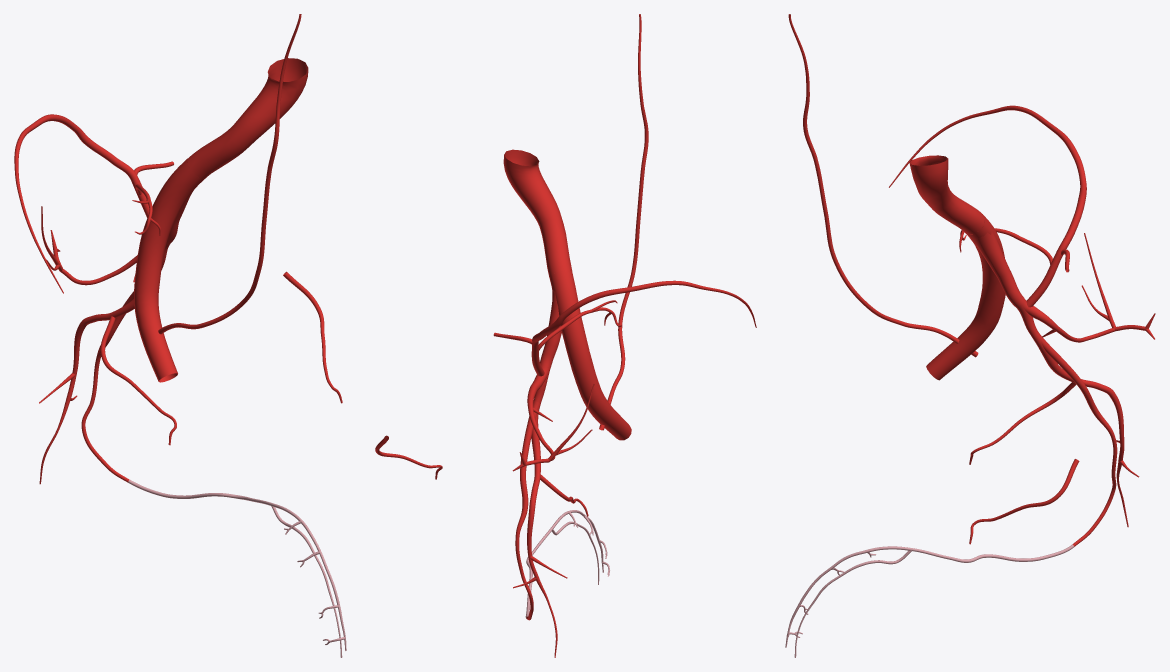
Rendered from circulatorio-common-iliac-artery-r.glb.
The picture shows the model from 3 angles, left to right: view 1: azimuth 30°, elevation 25°; view 2: azimuth 150°, elevation 25°; view 3: azimuth 270°, elevation 25°; orthographic projection. The views are drawn at different scales.
Visible parts, largest first — view 1: External iliac artery.r, Common iliac artery.r, Inferior epigastric artery.r, Iliacus branch of iliolumbar artery.r, Dorsal artery of penis.r, Inferior gluteal artery.r, Internal pudendal artery.r, Superior gluteal artery.r, Obturator artery.r, Obturator artery.l; view 2: External iliac artery.r, Common iliac artery.r, Inferior epigastric artery.r, Inferior gluteal artery.r, Iliacus branch of iliolumbar artery.r, Internal pudendal artery.r, Superior gluteal artery.r, Dorsal artery of penis.r, Internal iliac artery.r; view 3: External iliac artery.r, Common iliac artery.r, Inferior epigastric artery.r, Iliacus branch of iliolumbar artery.r, Internal pudendal artery.r, Dorsal artery of penis.r, Internal iliac artery.r, Inferior gluteal artery.r, Superior gluteal artery.r, Obturator artery.l, Obturator artery.r.
Part boxes in pixels (x1=…): External iliac artery.r: x1=134, y1=159, x2=205, y2=382; Common iliac artery.r: x1=187, y1=58, x2=308, y2=178; Inferior epigastric artery.r: x1=158, y1=14, x2=301, y2=334; Iliacus branch of iliolumbar artery.r: x1=14, y1=114, x2=138, y2=293; Dorsal artery of penis.r: x1=128, y1=479, x2=346, y2=650; Inferior gluteal artery.r: x1=39, y1=266, x2=163, y2=484; Internal pudendal artery.r: x1=81, y1=291, x2=133, y2=482; Superior gluteal artery.r: x1=41, y1=206, x2=137, y2=285; Obturator artery.r: x1=100, y1=316, x2=176, y2=445; Obturator artery.l: x1=283, y1=271, x2=342, y2=403; External iliac artery.r: x1=549, y1=270, x2=631, y2=440; Common iliac artery.r: x1=503, y1=149, x2=572, y2=277; Inferior epigastric artery.r: x1=599, y1=14, x2=648, y2=430; Inferior gluteal artery.r: x1=513, y1=401, x2=567, y2=657; Iliacus branch of iliolumbar artery.r: x1=532, y1=280, x2=756, y2=345; Internal pudendal artery.r: x1=515, y1=403, x2=538, y2=620; Superior gluteal artery.r: x1=512, y1=379, x2=594, y2=471; Dorsal artery of penis.r: x1=525, y1=510, x2=609, y2=618; Internal iliac artery.r: x1=540, y1=270, x2=564, y2=368; External iliac artery.r: x1=926, y1=215, x2=1005, y2=380; Common iliac artery.r: x1=909, y1=155, x2=984, y2=234; Inferior epigastric artery.r: x1=788, y1=14, x2=978, y2=357; Iliacus branch of iliolumbar artery.r: x1=889, y1=105, x2=1086, y2=255; Internal pudendal artery.r: x1=1032, y1=334, x2=1117, y2=546; Dorsal artery of penis.r: x1=785, y1=544, x2=1074, y2=647; Internal iliac artery.r: x1=970, y1=215, x2=1024, y2=306; Inferior gluteal artery.r: x1=1031, y1=332, x2=1139, y2=527; Superior gluteal artery.r: x1=1031, y1=233, x2=1155, y2=342; Obturator artery.l: x1=969, y1=459, x2=1079, y2=544; Obturator artery.r: x1=969, y1=382, x2=1076, y2=464.
Size of the model in its own units: 0.179 by 0.3173 by 0.1709.
